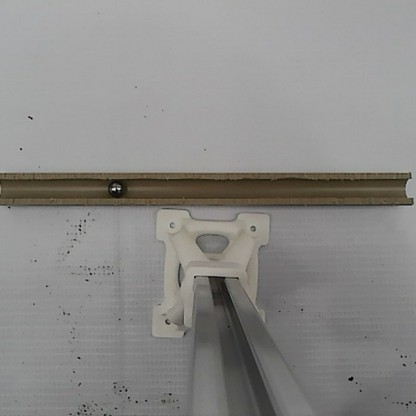ironball: (105, 179, 125, 199)
